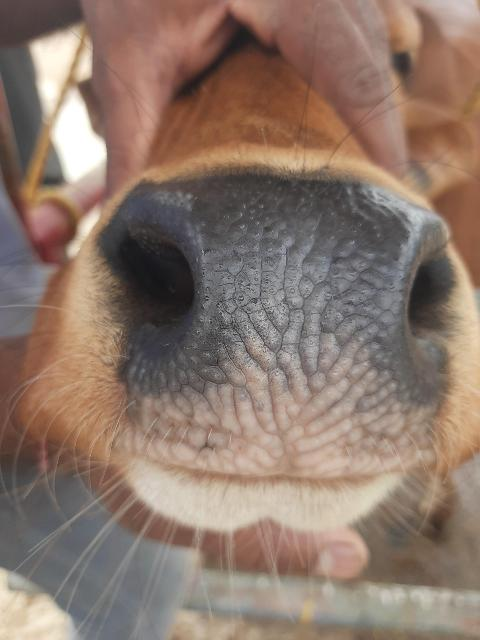Muzzle: (138, 186, 420, 466)
